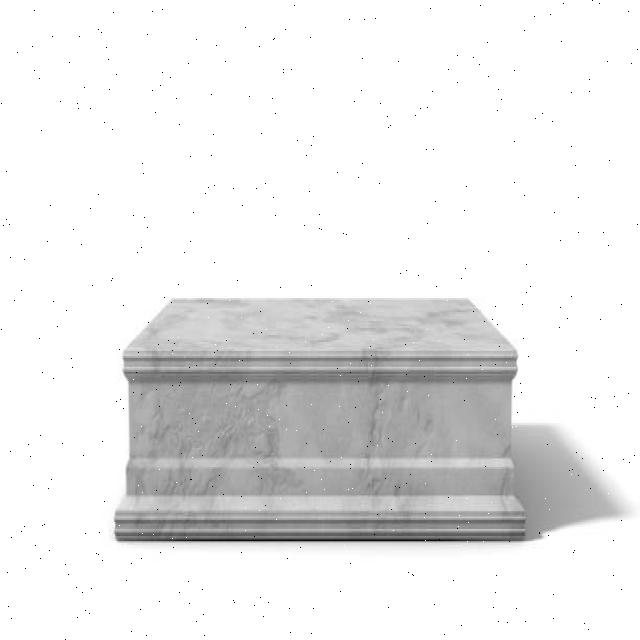Metamorphic: (115, 278, 542, 548)
